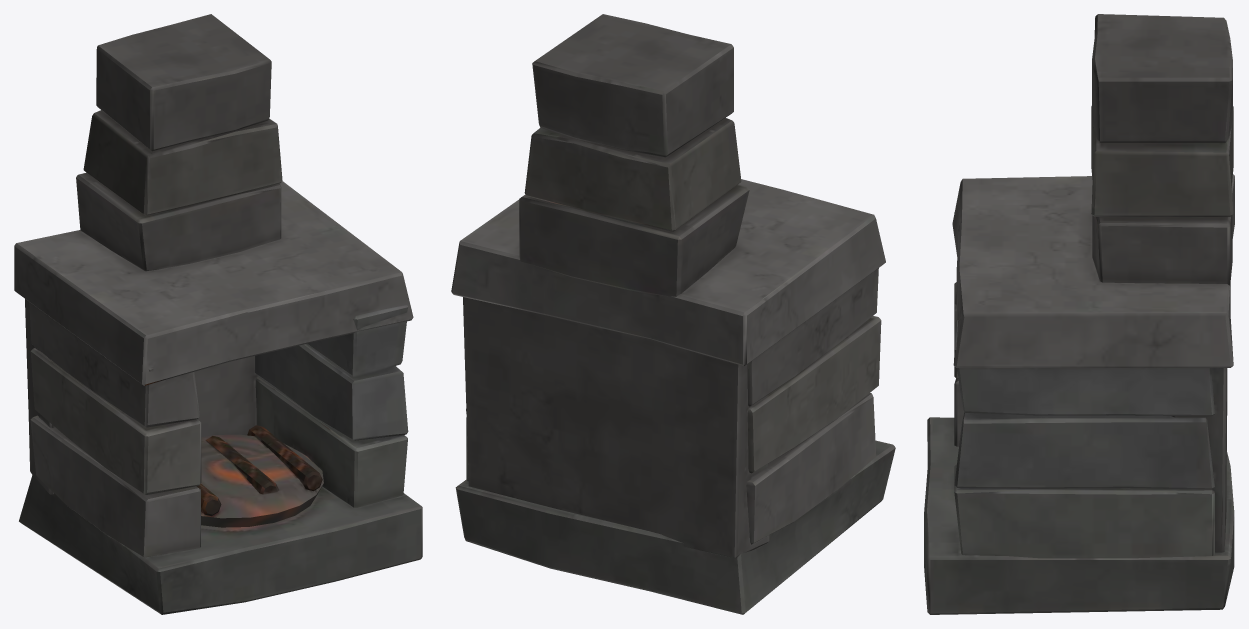
Rendered from fireplace.glb.
The picture shows the model from 3 angles, left to right: view 1: azimuth 30°, elevation 25°; view 2: azimuth 150°, elevation 25°; view 3: azimuth 270°, elevation 25°; orthographic projection. The views are drawn at different scales.
Parts seen in each view (by area): view 1: fireplace; view 2: fireplace; view 3: fireplace.
Boxes of the visible parts, bbox=[...] form: fireplace: bbox=[14, 14, 422, 614]; fireplace: bbox=[451, 14, 895, 614]; fireplace: bbox=[924, 14, 1234, 614].
Bounding box in the file's own units: 0.94 × 1.53 × 0.8594.
1 material, 1 textured.
